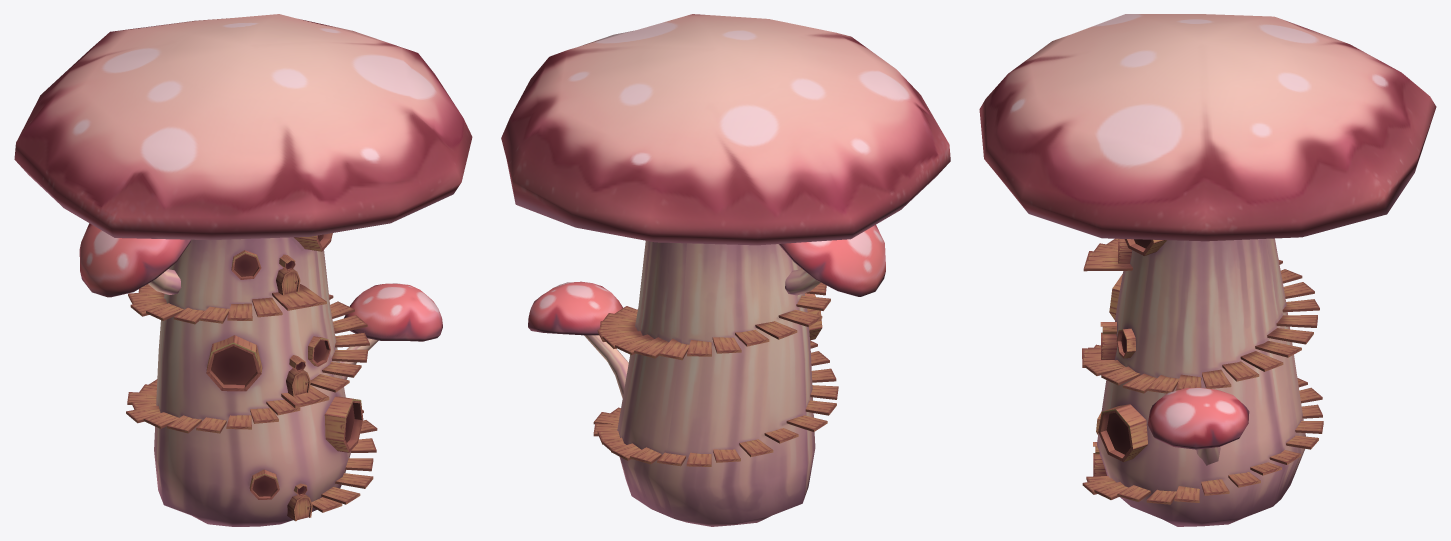
The model's file is MD_mushroom_home_L.fbx.
3 views of the same model, side by side, from view 1: azimuth 30°, elevation 25°; view 2: azimuth 150°, elevation 25°; view 3: azimuth 270°, elevation 25° (orthographic).
Parts seen in each view (by area): view 1: mushroom_home_L2; view 2: mushroom_home_L2; view 3: mushroom_home_L2.
Boxes of the visible parts, bbox=[...] form: mushroom_home_L2: bbox=[14, 14, 472, 526]; mushroom_home_L2: bbox=[501, 14, 950, 526]; mushroom_home_L2: bbox=[979, 14, 1436, 526].
Size of the model in its own units: 2332 by 2616 by 2369.
1 material, 1 textured.
